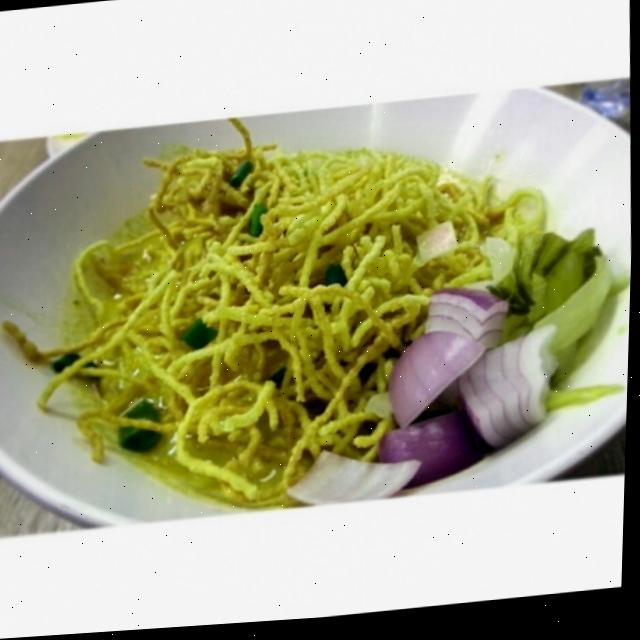面条主食: (27, 96, 637, 530)
